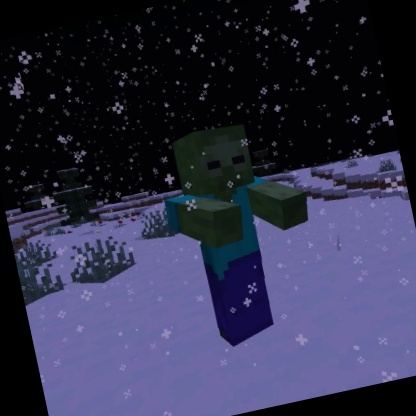zombie: (145, 105, 340, 362)
